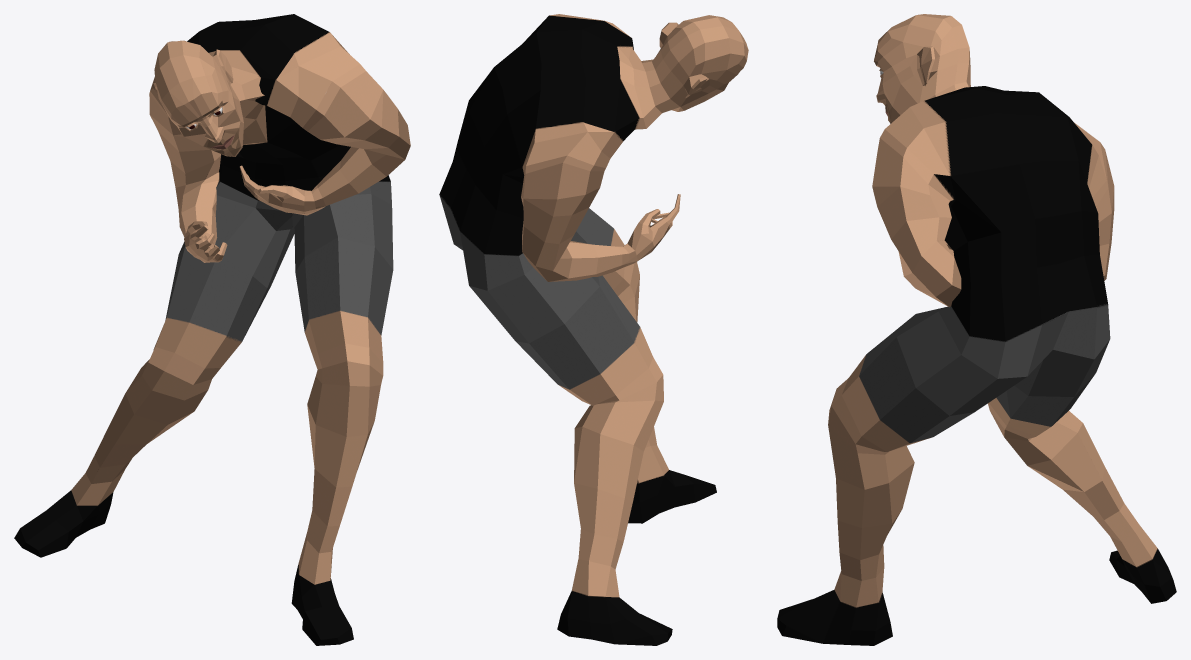
The model's file is PlayerDead(25).obj.
The picture shows the model from 3 angles, left to right: view 1: azimuth 30°, elevation 25°; view 2: azimuth 150°, elevation 25°; view 3: azimuth 270°, elevation 25°; orthographic projection. The views are drawn at different scales.
Parts seen in each view (by area): view 1: Plane002; view 2: Plane002; view 3: Plane002.
Part boxes in pixels (bbox=[...]): Plane002: bbox=[14, 14, 410, 645]; Plane002: bbox=[439, 14, 748, 645]; Plane002: bbox=[777, 14, 1176, 645].
Size of the model in its own units: 737 by 1361 by 856.
